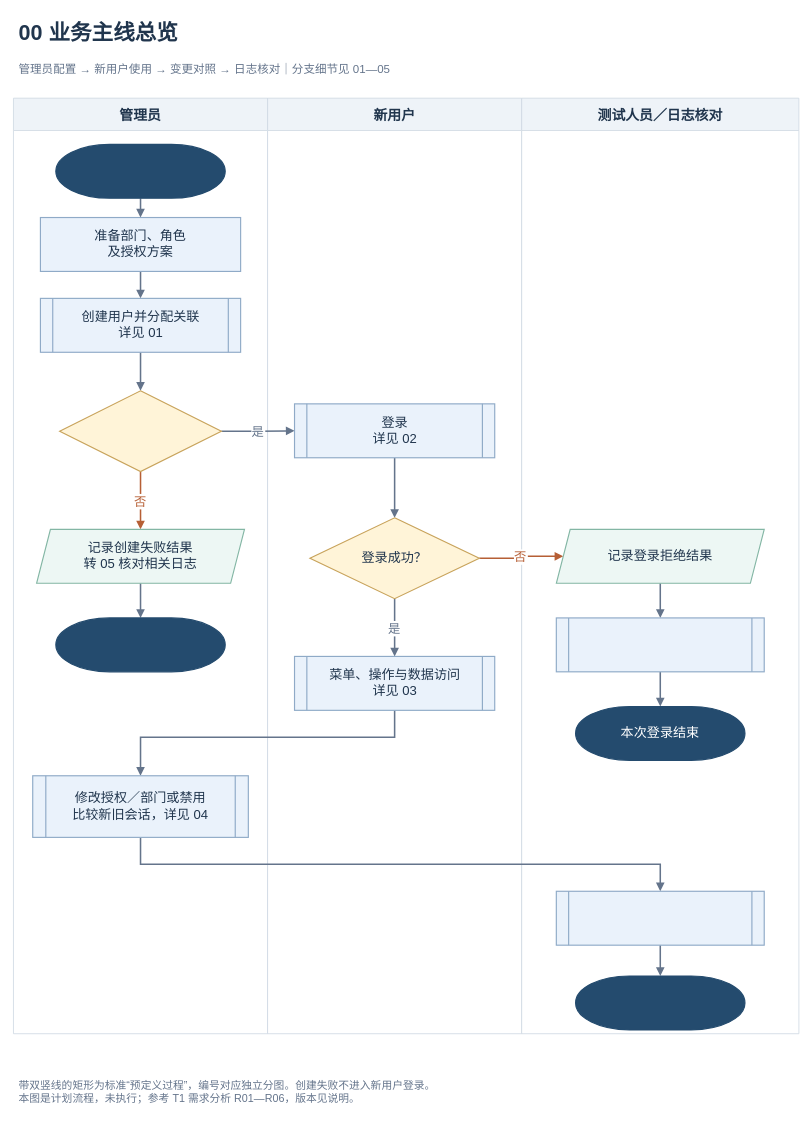
Some shapes in this 812 by 1132 pixel diagram are drawn without their labels. Each missing label, with the centre of its shape:
"创建成功？" belongs at [140,431].
"开始" belongs at [140,171].
"本次配置结束" belongs at [140,644].
"核对登录日志 详见 05" belongs at [659,644].
"汇总主线证据 核对日志，详见 05" belongs at [659,917].
"结束" belongs at [660,1002].
